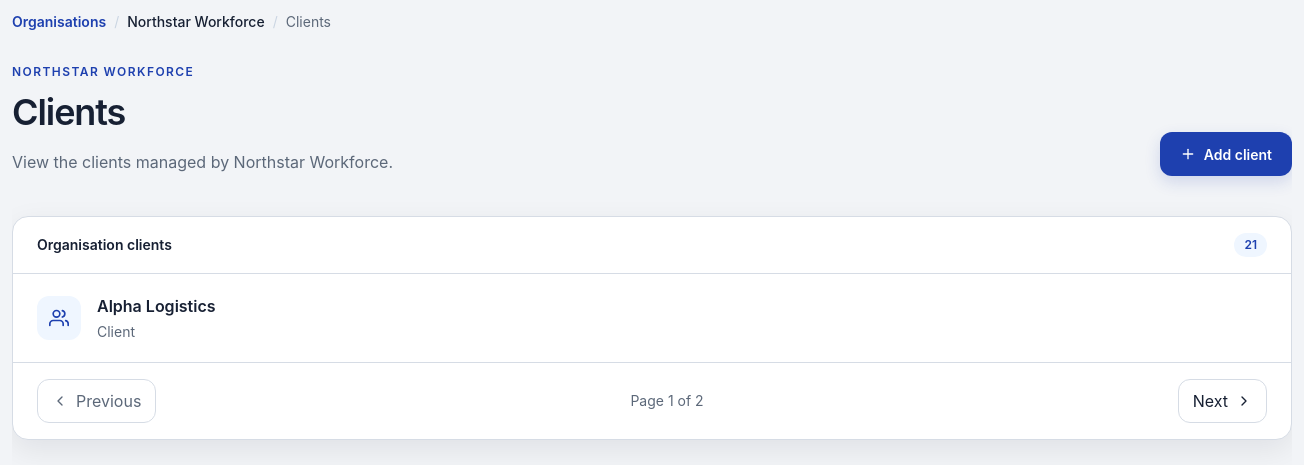
Test: ClientsPage › requests the next server page without carrying over previous results
The image size is (1304, 465).
Expected: the text "Alpha Logistics" is shown, [97, 294, 216, 318]
Click the button "Next" at x=1222, y=401, box [1178, 379, 1267, 423]
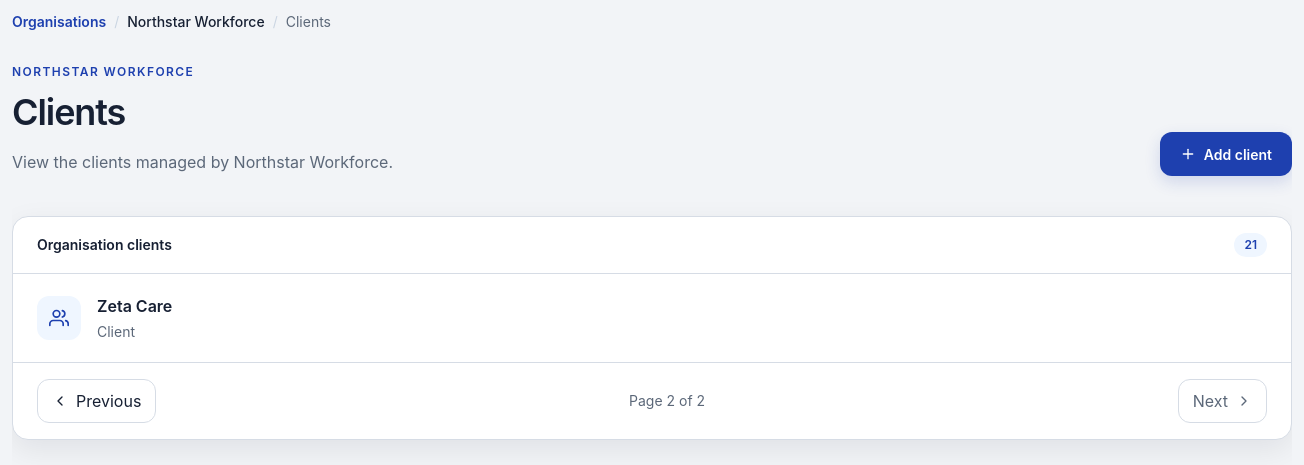
Expected: the text "Zeta Care" is shown, [97, 294, 172, 318]
Expected: the text "Alpha Logistics" is gone
Expected: the text "Page 2 of 2" is shown, [629, 391, 705, 411]
